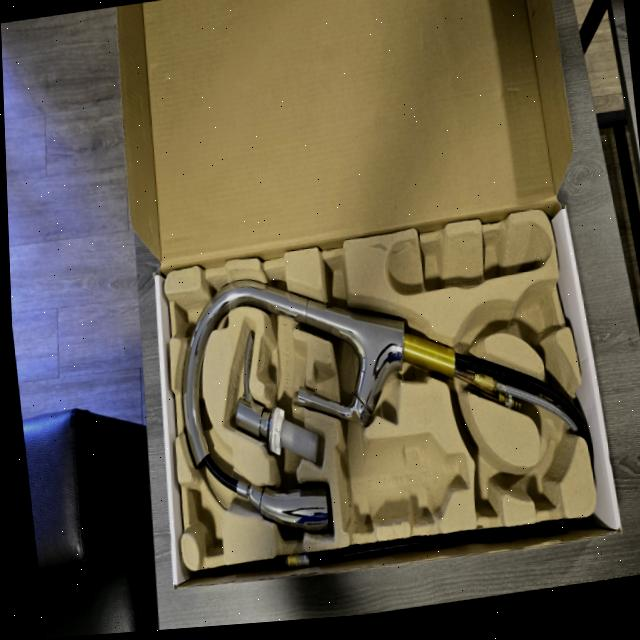1: (180, 279, 581, 533)
2: (232, 327, 318, 460)
3m: (335, 432, 468, 528)
4m: (384, 219, 551, 294)
5m: (510, 290, 553, 345)
6m: (529, 440, 566, 510)
7m: (476, 447, 505, 516)
